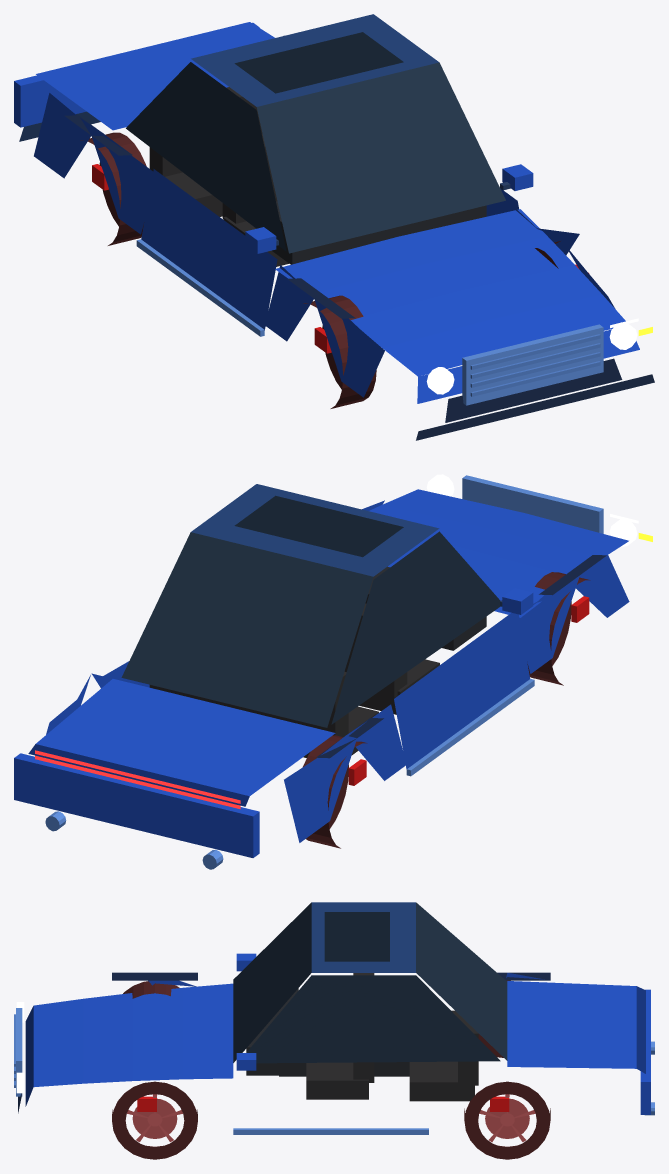
File: executive_sedan_lod0.glb
3 renders of one model, top to bottom at view 1: azimuth 30°, elevation 25°; view 2: azimuth 150°, elevation 25°; view 3: azimuth 270°, elevation 25°, orthographic. The views are drawn at different scales.
Visible parts, largest first — view 1: Chassis, Glass, Interior, Wheel_FL, Wheel_RL, Headlights; view 2: Chassis, Glass, Interior, BrakeLights, Wheel_FL, Wheel_RL, Headlights; view 3: Glass, Chassis, Interior, Wheel_RR, Wheel_FR, Wheel_FL.
Part boxes in pixels (x1,y1,x2,y2): Chassis: (14, 22, 654, 440); Glass: (126, 14, 505, 253); Interior: (149, 87, 486, 266); Wheel_FL: (303, 295, 376, 408); Wheel_RL: (80, 132, 146, 245); Headlights: (426, 318, 638, 394); Chassis: (14, 475, 629, 869); Glass: (121, 484, 500, 727); Interior: (149, 566, 486, 757); BrakeLights: (35, 750, 240, 809); Wheel_FL: (527, 572, 590, 685); Wheel_RL: (303, 735, 367, 848); Headlights: (426, 474, 638, 546); Glass: (233, 902, 507, 1063); Chassis: (14, 953, 654, 1134); Interior: (246, 973, 478, 1101); Wheel_RR: (464, 1081, 550, 1159); Wheel_FR: (112, 1081, 197, 1159); Wheel_FL: (123, 981, 179, 998).
Bounding box in the file's own units: 1.93 × 1.46 × 4.91.
